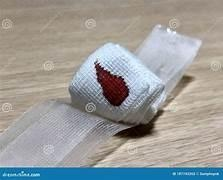Bandage: (0, 25, 200, 166), (69, 43, 164, 123)
cotton: (69, 25, 200, 123), (0, 101, 129, 166), (135, 25, 200, 93)
